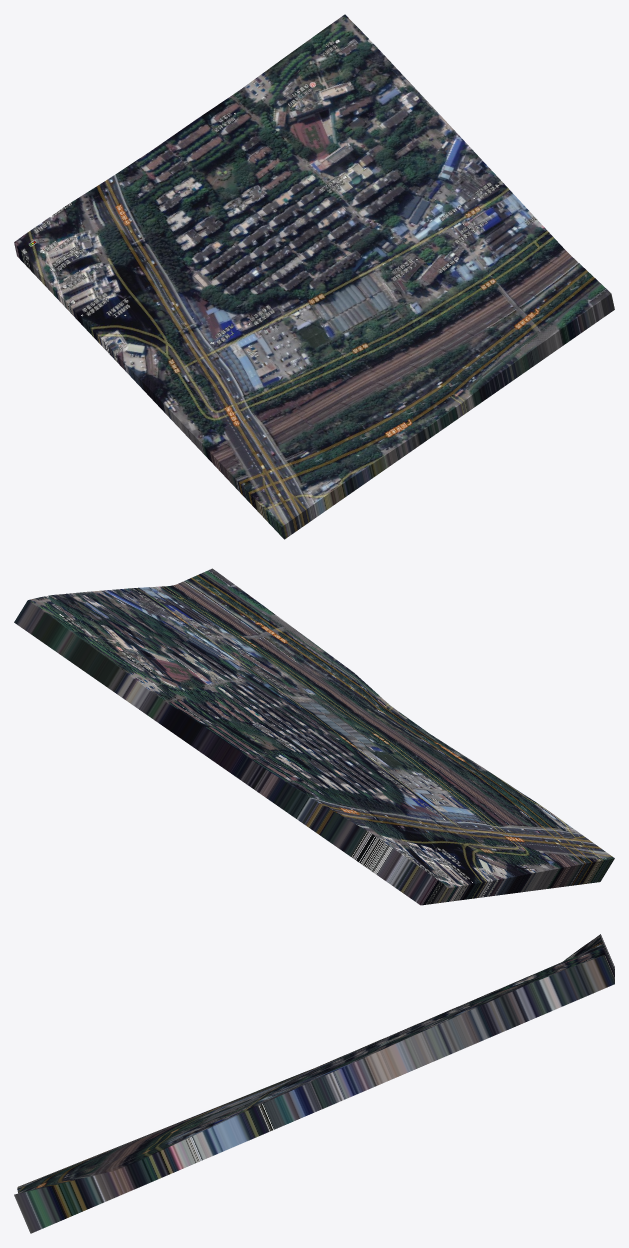
3 views of the same model, one above another, from view 1: azimuth 30°, elevation 25°; view 2: azimuth 150°, elevation 25°; view 3: azimuth 270°, elevation 25° (orthographic). The views are drawn at different scales.
Parts seen in each view (by area): view 1: 0_6_28; view 2: 0_6_28; view 3: 0_6_28.
Part boxes in pixels (x1,y1,x2,y2): 0_6_28: (14,14,614,539); 0_6_28: (14,568,614,905); 0_6_28: (14,934,614,1233).
Size of the model in its own units: 604 by 453 by 557.
Materials: 1 (1 with a texture image).
